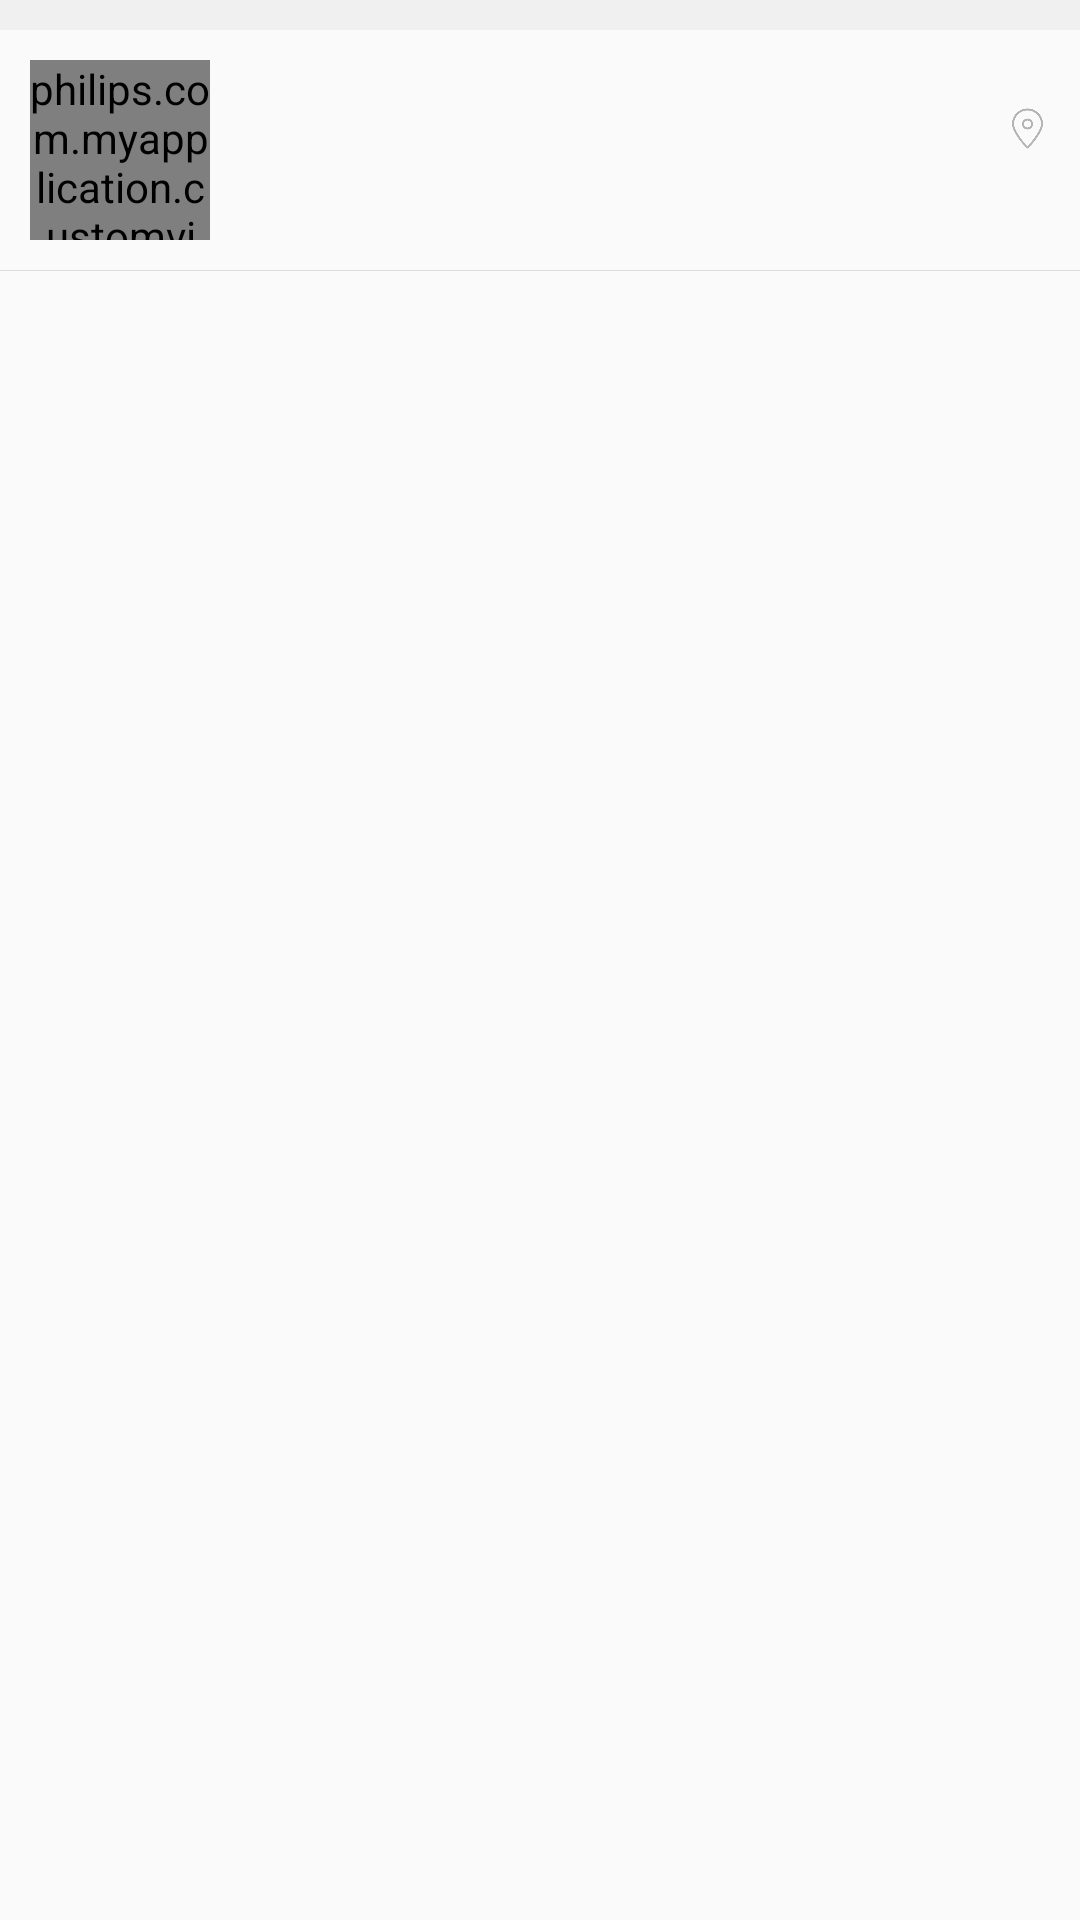

Screen size 1080x1920. Icon name, then its box in pixels as (x1, y1, x2, y2):
location: (1012, 108, 1043, 149)
